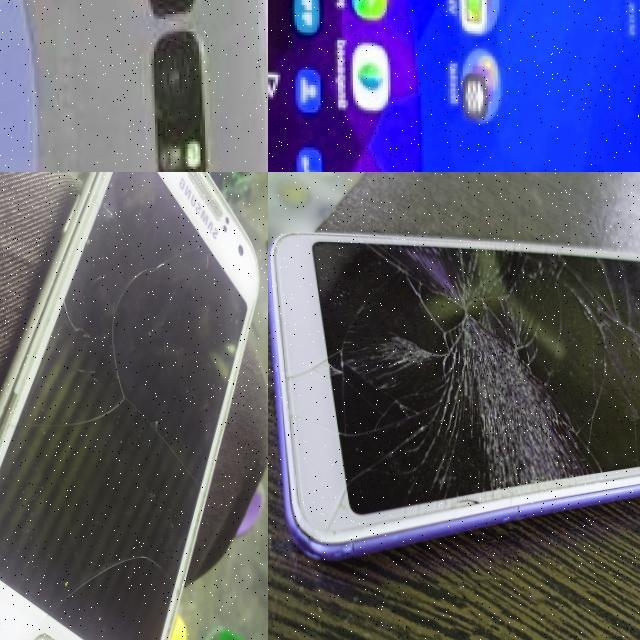screen crack: (282, 223, 640, 542), (18, 172, 243, 640)
